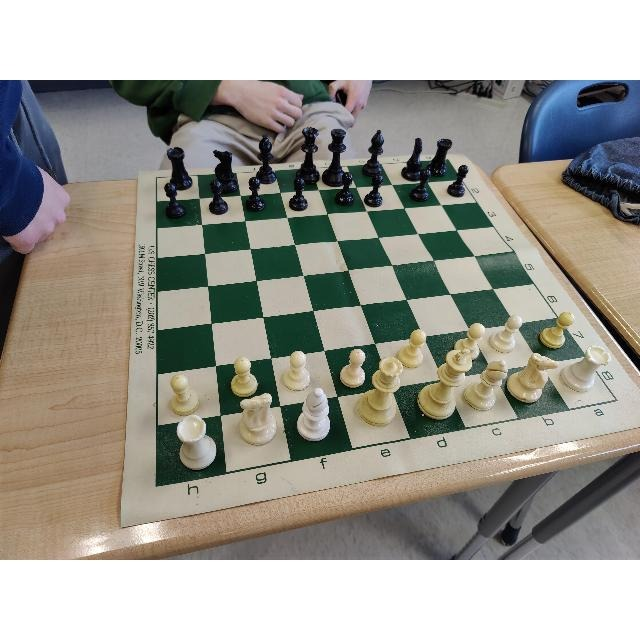black-bishop: (362, 130, 383, 178), (256, 135, 276, 183)
black-knight: (322, 129, 346, 187), (213, 150, 239, 194), (400, 138, 422, 182)
black-pawn: (164, 181, 188, 219), (409, 169, 431, 201), (245, 176, 265, 211), (447, 165, 469, 196), (209, 179, 227, 215), (364, 173, 383, 207), (336, 172, 354, 206), (289, 177, 307, 211)
black-queen: (296, 127, 320, 183)
black-rook: (167, 147, 192, 189), (428, 138, 452, 175)
white-bishop: (464, 360, 507, 410), (296, 387, 331, 441)
white-king: (417, 349, 473, 421)
white-knight: (507, 353, 559, 403), (238, 392, 278, 444)
white-pawn: (539, 310, 574, 349), (168, 373, 199, 414), (490, 315, 522, 353), (454, 323, 486, 359), (284, 350, 312, 391), (398, 329, 426, 369), (230, 358, 259, 396), (340, 348, 366, 387)
white-queen: (359, 357, 403, 427)
white-rook: (559, 346, 611, 392), (178, 414, 218, 470)
